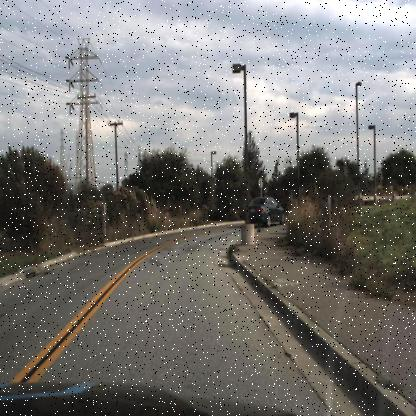car: (245, 193, 286, 228)
